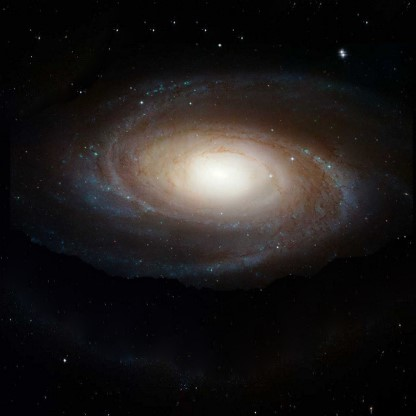Messier 81: (49, 35, 382, 283)
